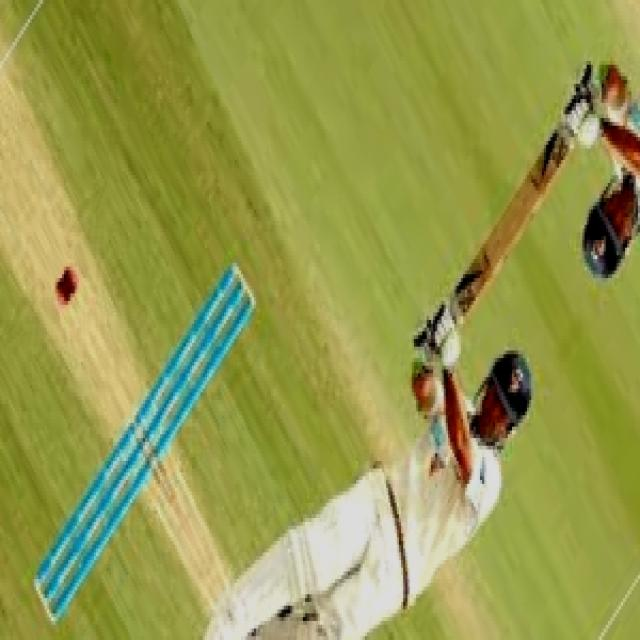toe: (510, 204, 532, 224)
